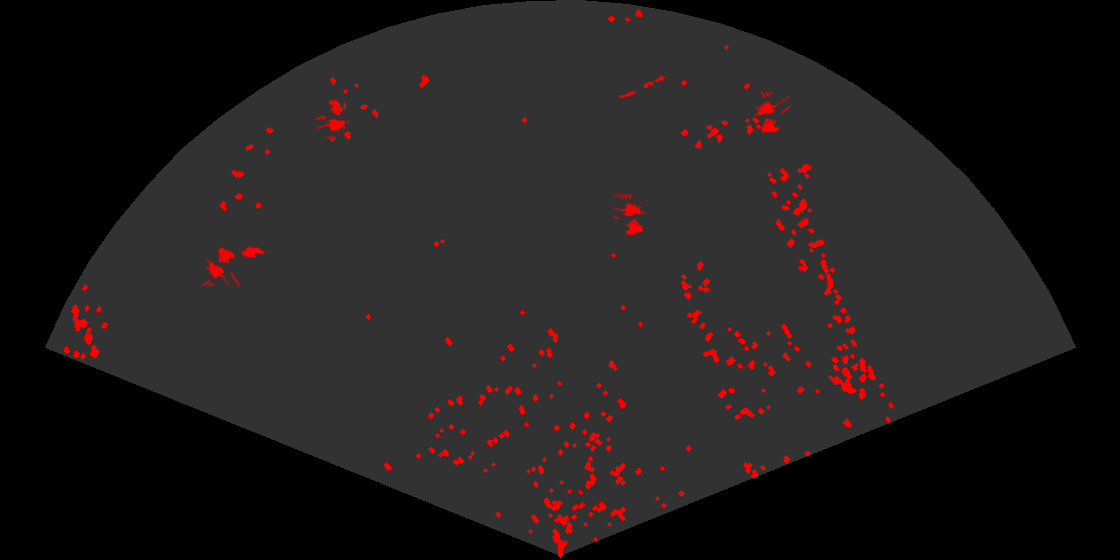AUV: (240, 245, 266, 259)
cage: (199, 246, 242, 286), (753, 92, 790, 135), (613, 194, 647, 237), (316, 98, 351, 139)
chain: (617, 73, 668, 100)
